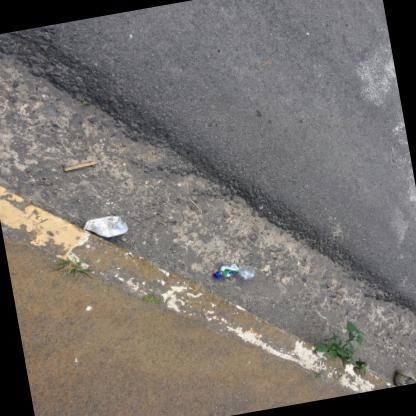Metal: (82, 216, 127, 237)
Paper: (415, 355, 416, 359)
Plastic: (213, 263, 254, 280), (212, 272, 219, 278)
